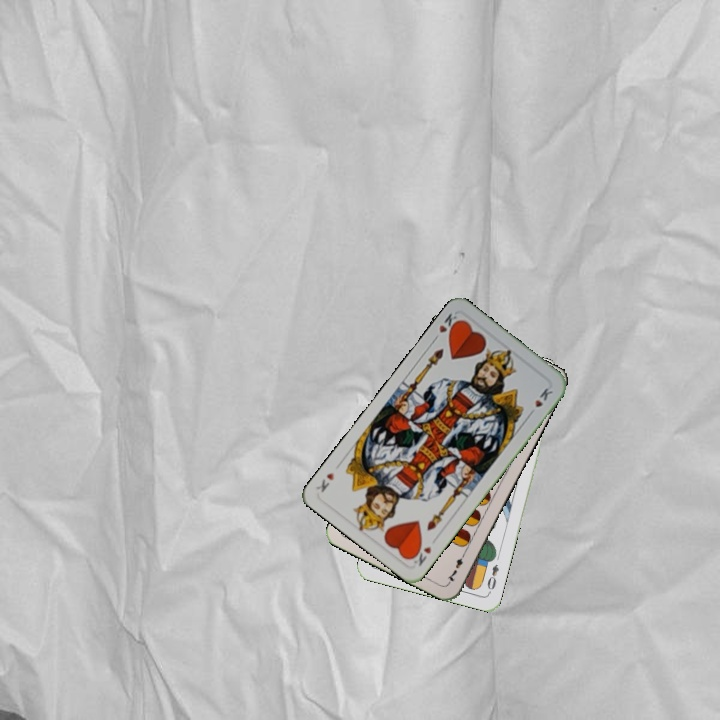E7: (443, 548, 468, 586)
EO: (483, 560, 501, 596)
HK: (429, 309, 464, 344), (406, 541, 434, 569)
